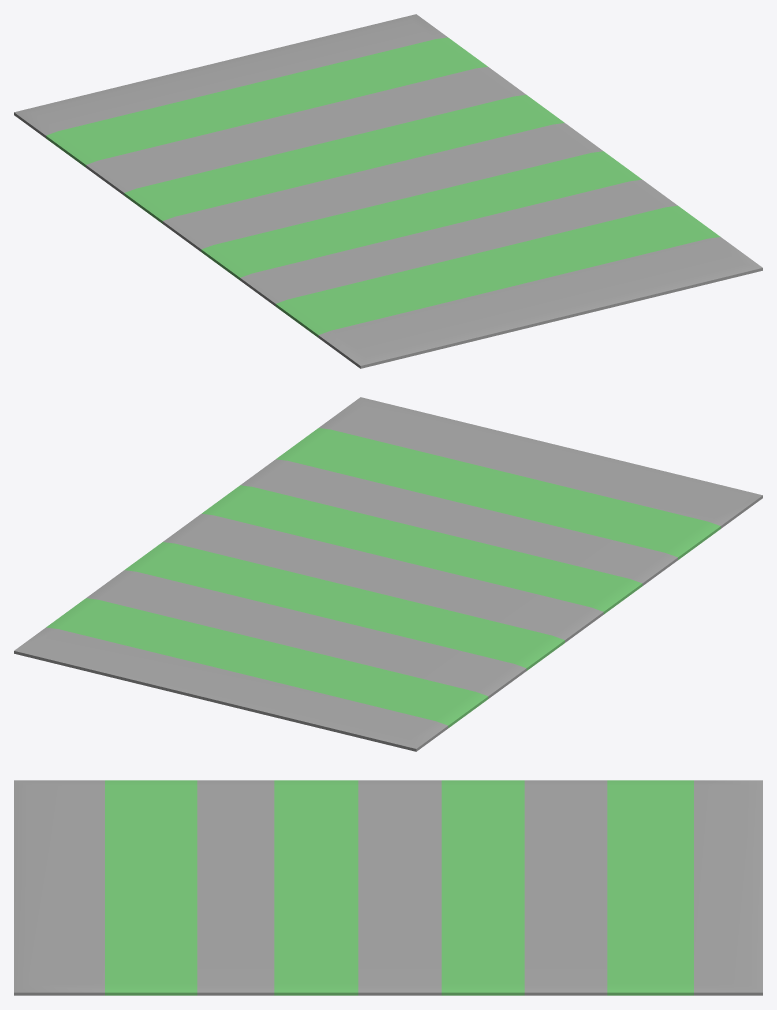
The model's file is Carpet_01.fbx.
3 views of the same model, one above another, from view 1: azimuth 30°, elevation 25°; view 2: azimuth 150°, elevation 25°; view 3: azimuth 270°, elevation 25° (orthographic). The views are drawn at different scales.
Parts seen in each view (by area): view 1: polySurface61, polySurface57; view 2: polySurface61, polySurface57; view 3: polySurface61, polySurface57.
Boxes of the visible parts, x1,y1,x2,y2 form: polySurface61: (14, 14, 762, 368); polySurface57: (46, 37, 720, 337); polySurface61: (14, 397, 762, 751); polySurface57: (46, 428, 720, 727); polySurface61: (14, 780, 762, 995); polySurface57: (105, 780, 693, 995).
Bounding box in the file's own units: 250 × 2.55 × 373.
Materials: 2 (1 with a texture image).
